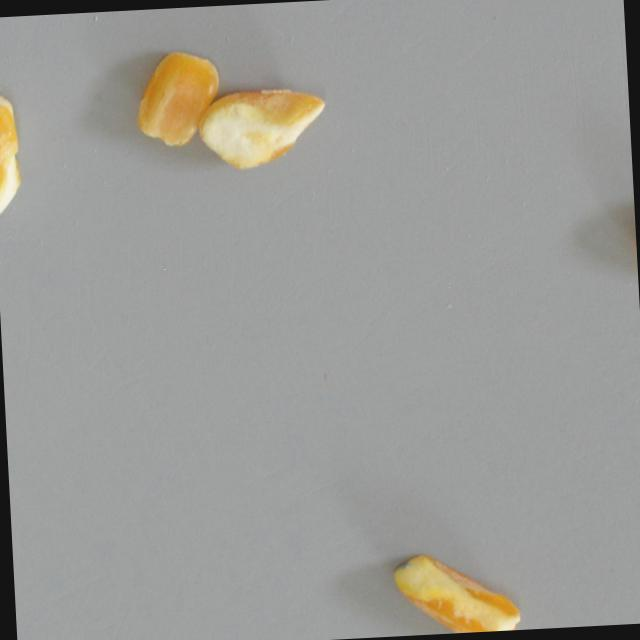pelicula: (193, 83, 329, 173), (390, 546, 523, 637), (129, 47, 223, 150), (0, 91, 26, 219)
